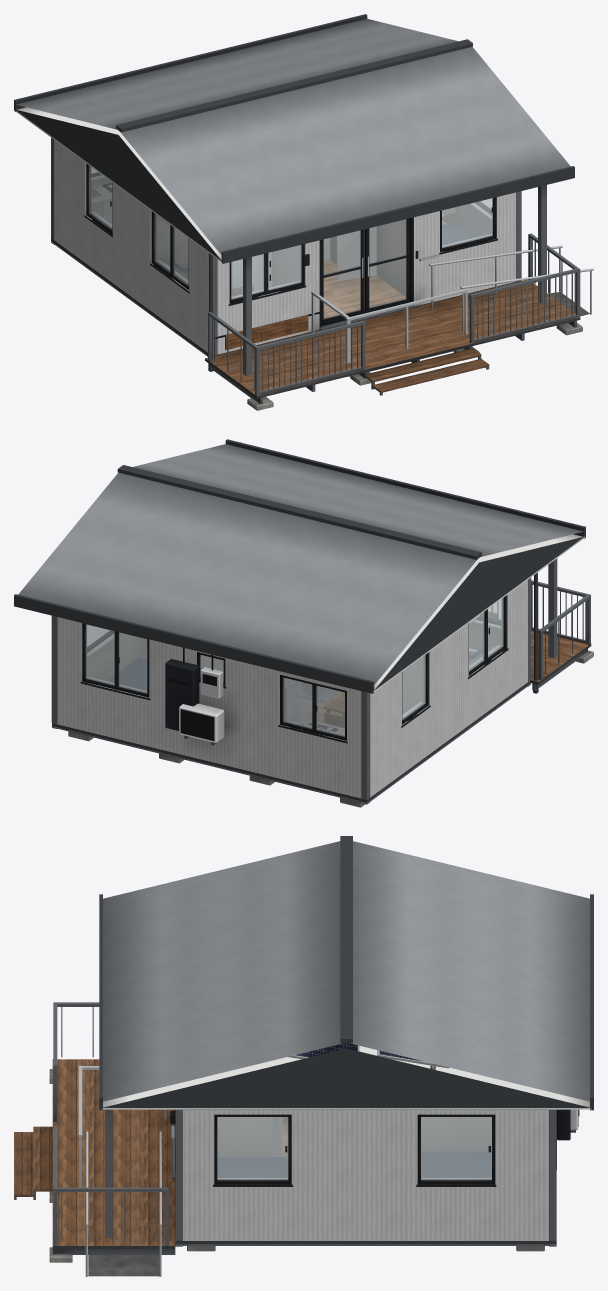
Rendered from Studio20_Production.glb.
3 renders of one model, top to bottom at view 1: azimuth 30°, elevation 25°; view 2: azimuth 150°, elevation 25°; view 3: azimuth 270°, elevation 25°, orthographic. The views are drawn at different scales.
Parts seen in each view (by area): view 1: RoofSlopingUpgrade, TerraceDeck, ExteriorPanelsStandard, WindowsStandard, EntryDoor, WindowsLargeUpgrade, LayoutS20TwoBed, LayoutS20ThreeBed, AccessibilityVillage, FloorSPCUpgrade, TopFrame, ExteriorPanelsPremium (+4 smaller); view 2: RoofSlopingUpgrade, ExteriorPanelsStandard, WindowsStandard, WindowsLargeUpgrade, TerraceDeck, SolarPrep, BaseFrame, TopFrame, InteriorWalls, HVACIndoorUnit, FurnitureStaging, KitchenAppliancePackage (+2 smaller); view 3: RoofSlopingUpgrade, ExteriorPanelsStandard, TerraceDeck, WindowsStandard, WindowsLargeUpgrade, FurnitureStaging, AccessibilityVillage, LayoutS20TwoBed, TopFrame, InteriorWalls, BaseFrame, SolarPrep.
Part boxes in pixels (left/top/right/bottom): RoofSlopingUpgrade: left=14, top=14, right=574, bottom=375; TerraceDeck: left=205, top=233, right=582, bottom=410; ExteriorPanelsStandard: left=54, top=140, right=515, bottom=354; WindowsStandard: left=84, top=163, right=497, bottom=336; EntryDoor: left=319, top=217, right=415, bottom=330; WindowsLargeUpgrade: left=86, top=166, right=495, bottom=338; LayoutS20TwoBed: left=337, top=219, right=405, bottom=296; LayoutS20ThreeBed: left=157, top=217, right=299, bottom=290; AccessibilityVillage: left=311, top=268, right=593, bottom=376; FloorSPCUpgrade: left=323, top=260, right=405, bottom=318; TopFrame: left=51, top=137, right=521, bottom=355; ExteriorPanelsPremium: left=225, top=315, right=308, bottom=349; RoofSlopingUpgrade: left=14, top=439, right=585, bottom=693; ExteriorPanelsStandard: left=57, top=580, right=527, bottom=799; WindowsStandard: left=80, top=595, right=508, bottom=743; WindowsLargeUpgrade: left=82, top=598, right=506, bottom=740; TerraceDeck: left=480, top=580, right=593, bottom=690; SolarPrep: left=165, top=647, right=223, bottom=730; BaseFrame: left=52, top=680, right=531, bottom=804; TopFrame: left=51, top=577, right=531, bottom=799; InteriorWalls: left=87, top=633, right=311, bottom=719; HVACIndoorUnit: left=179, top=616, right=478, bottom=745; FurnitureStaging: left=108, top=645, right=495, bottom=727; KitchenAppliancePackage: left=285, top=678, right=336, bottom=722; RoofSlopingUpgrade: left=99, top=836, right=593, bottom=1237; ExteriorPanelsStandard: left=183, top=1110, right=548, bottom=1240; TerraceDeck: left=14, top=1002, right=175, bottom=1262; WindowsStandard: left=175, top=1114, right=556, bottom=1186; WindowsLargeUpgrade: left=214, top=1114, right=494, bottom=1183; FurnitureStaging: left=217, top=1117, right=491, bottom=1177; AccessibilityVillage: left=78, top=1065, right=166, bottom=1276; LayoutS20TwoBed: left=217, top=1117, right=282, bottom=1156; TopFrame: left=175, top=1109, right=556, bottom=1240; InteriorWalls: left=421, top=1117, right=491, bottom=1151; BaseFrame: left=175, top=1241, right=556, bottom=1246; SolarPrep: left=288, top=1043, right=570, bottom=1140.
Size of the model in its own units: 7.72 by 3.95 by 8.98.
Materials: 46 (21 with a texture image).
